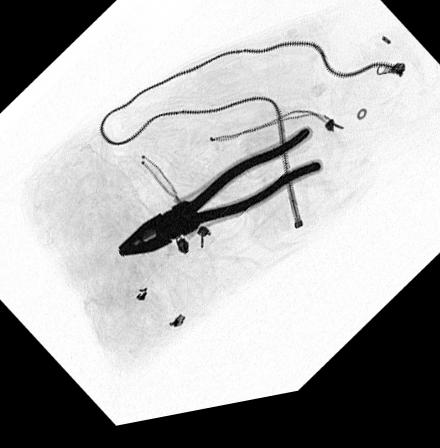Pliers: (114, 137, 324, 263)
